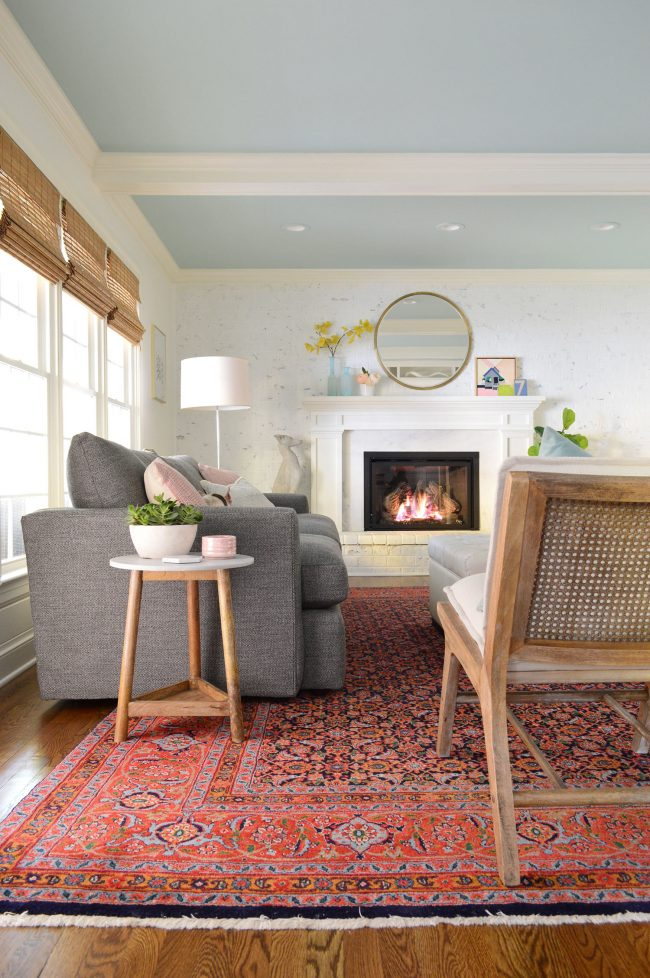chair: (25, 426, 346, 698), (452, 464, 650, 886)
